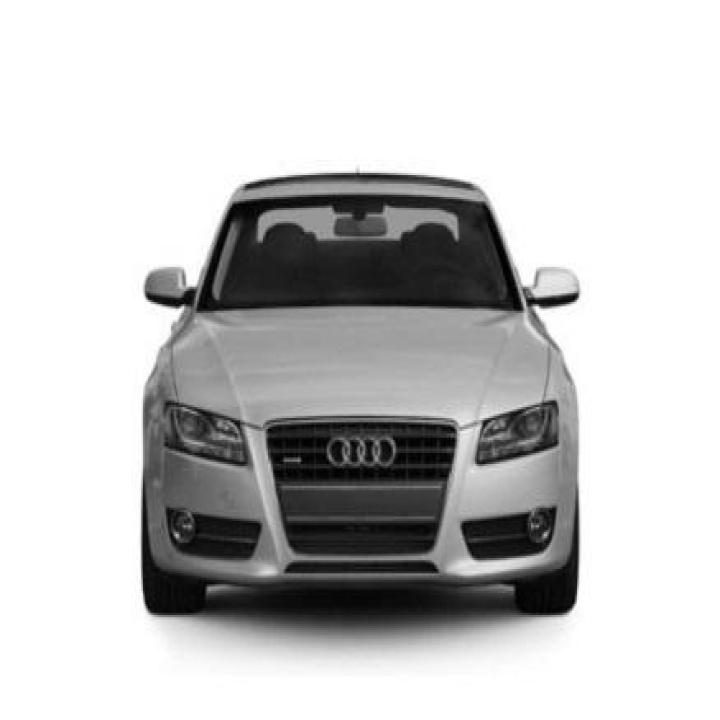car: (140, 169, 582, 617)
